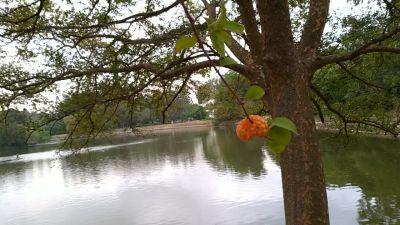eggs: (236, 113, 269, 142)
